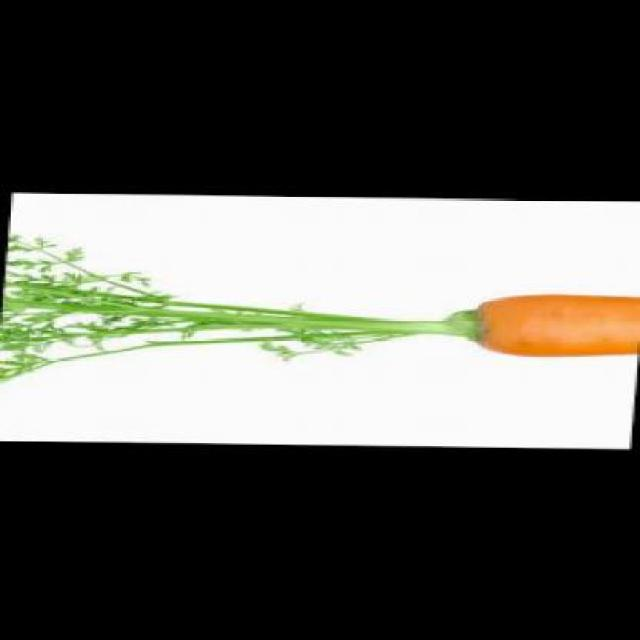carrot: (465, 290, 638, 358)
